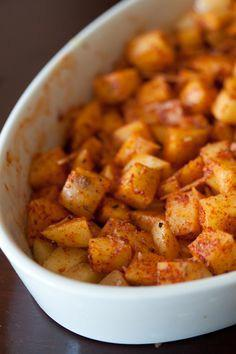AlooMasala: (26, 0, 236, 286)
